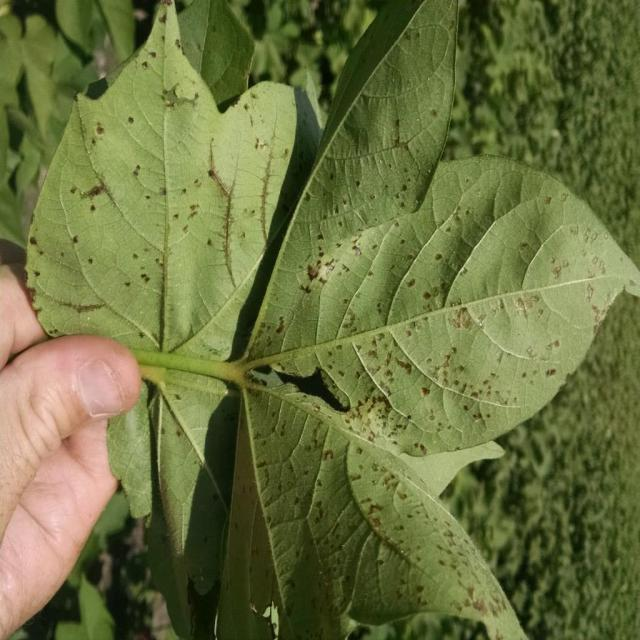Bacterial Blight: (274, 209, 469, 554)
